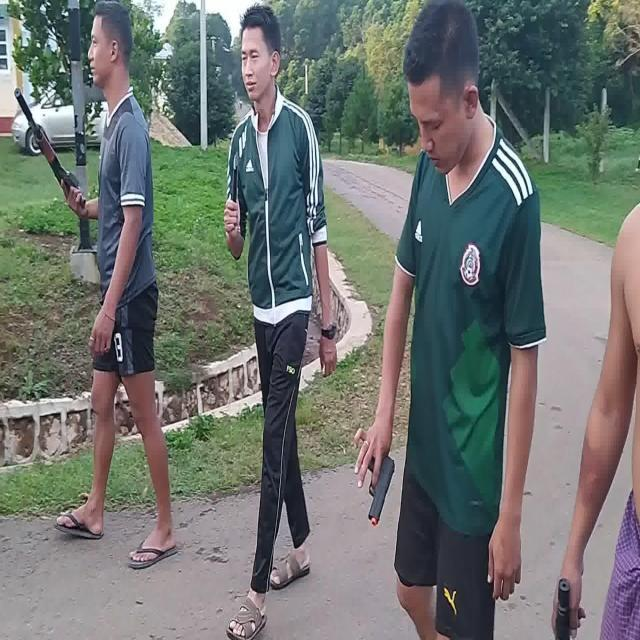gun: (14, 88, 85, 209)
